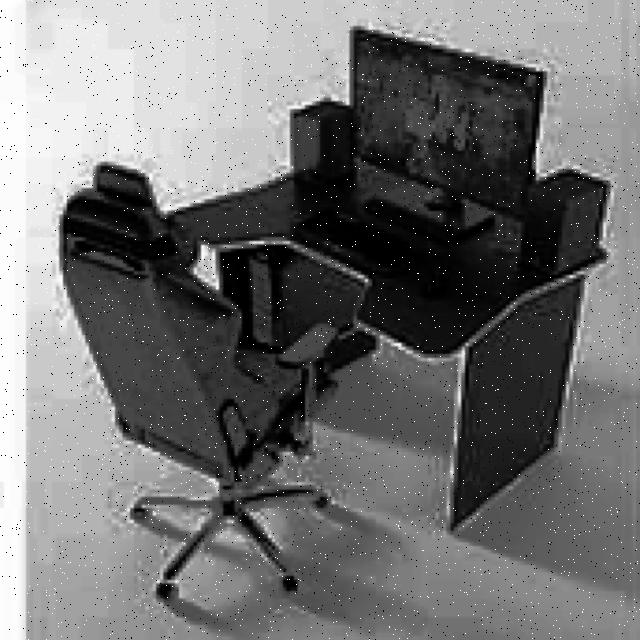book: (59, 162, 376, 602)
table: (164, 158, 606, 531)
